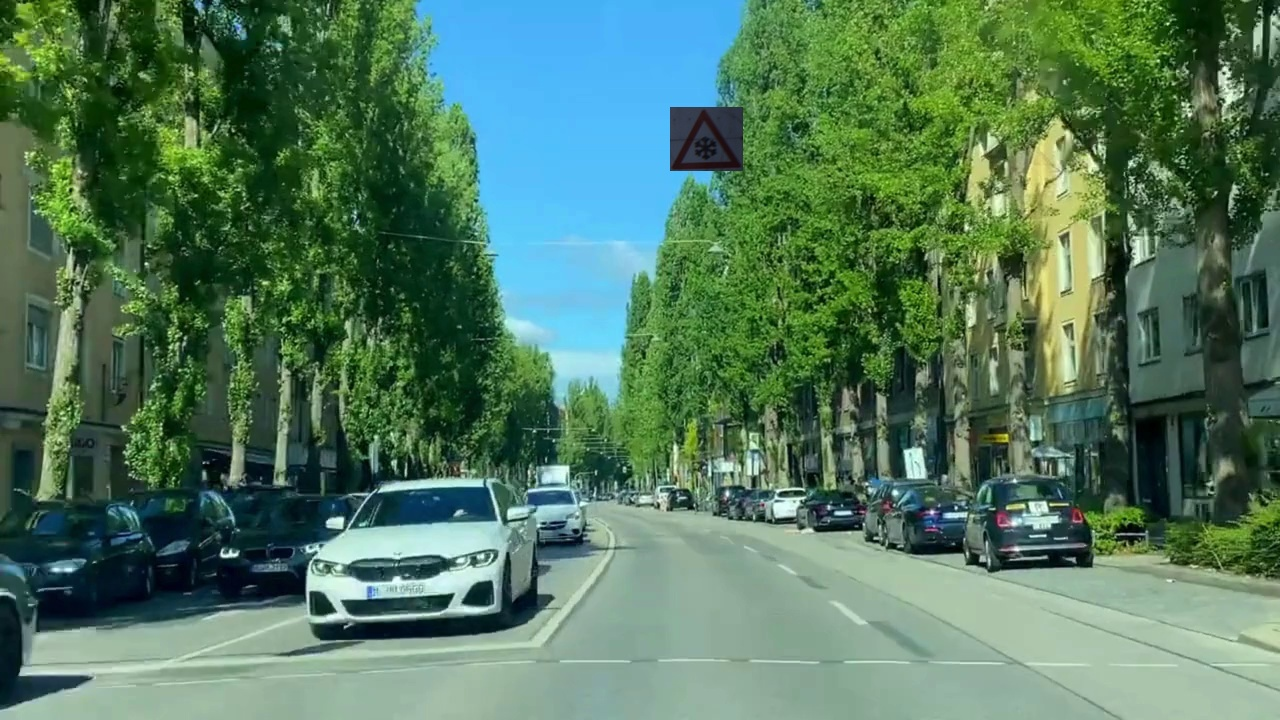Ice/snow: (670, 107, 743, 171)
